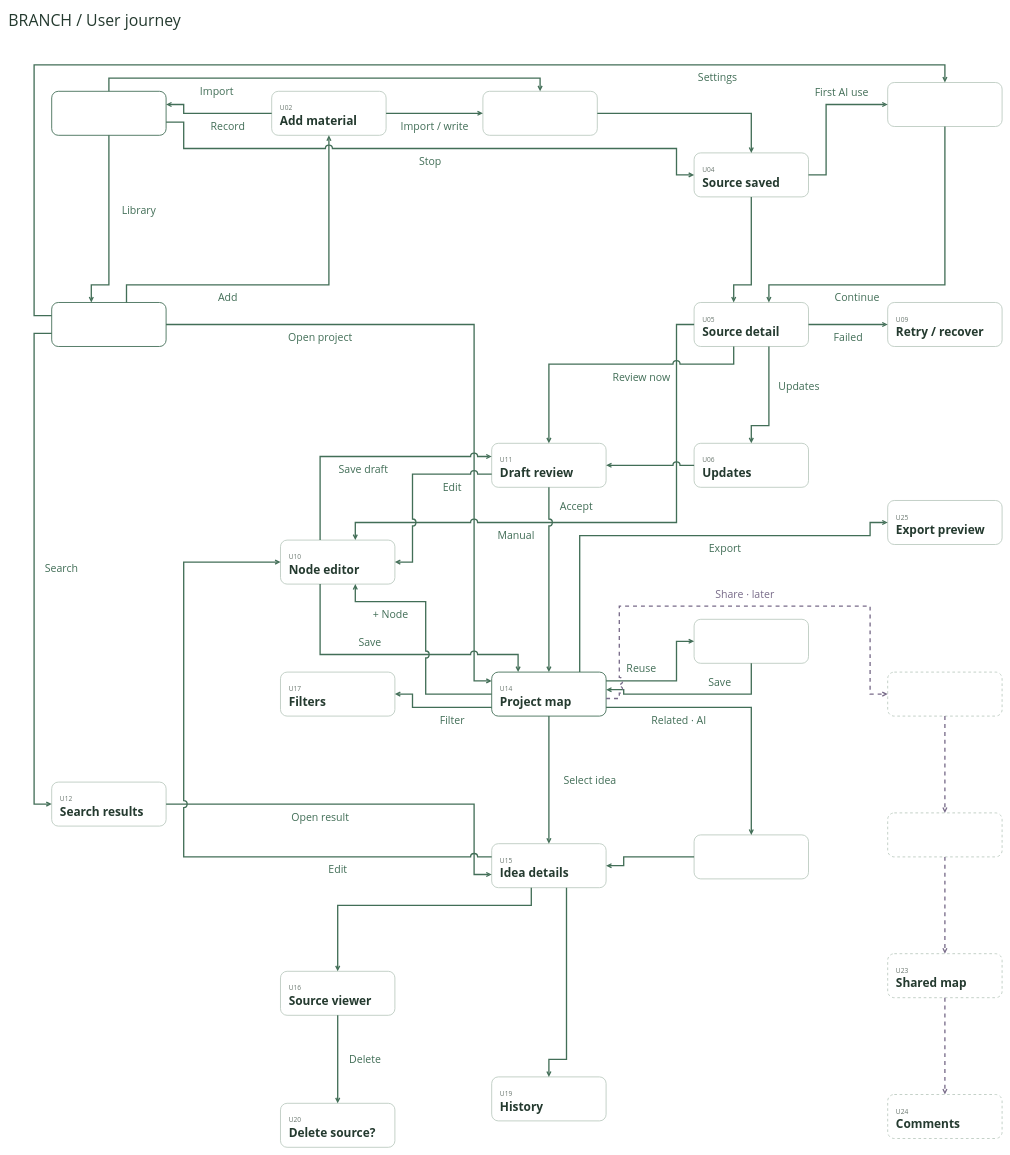
Image size: 1010x1155. Some labels were removed from this diagram. Each missing label, with the box of its shape:
START Recorder: (51, 91, 166, 136)
U01 Library: (51, 302, 166, 347)
U03 Import / write: (482, 91, 598, 136)
U07 AI settings: (887, 82, 1002, 127)
U13 Related ideas: (693, 834, 809, 879)
U18 Reuse idea: (693, 619, 809, 664)
U21 Share preview: (887, 671, 1002, 716)
U22 Invite / access: (887, 812, 1002, 857)
